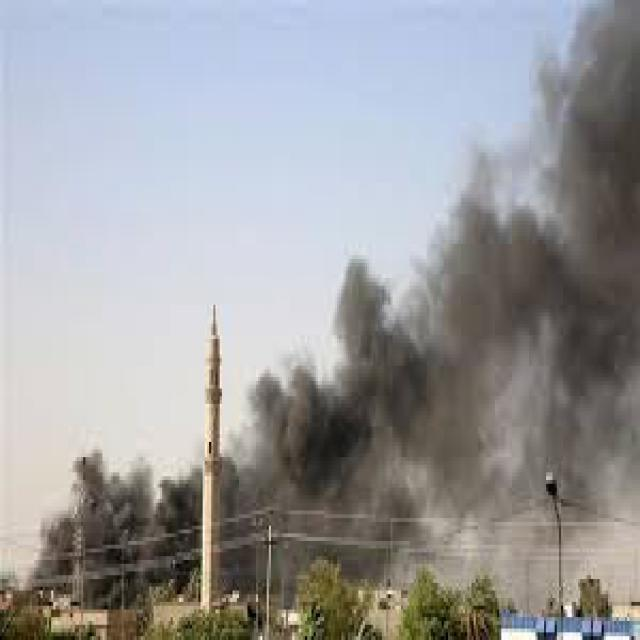Smoke: (236, 185, 640, 610), (415, 0, 640, 315), (0, 423, 248, 608)
